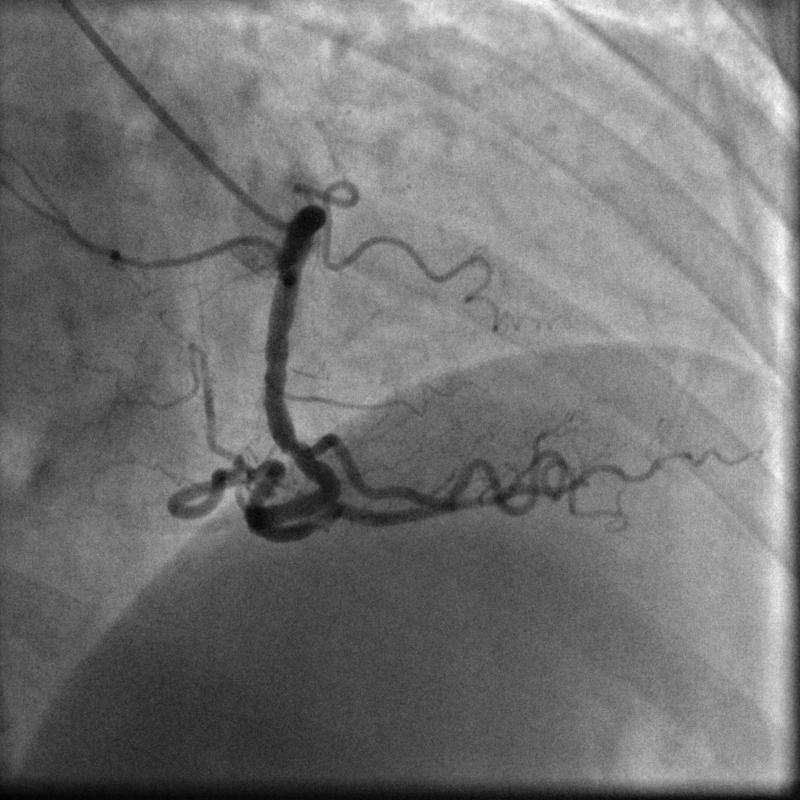Stenosis: (267, 430, 323, 468)
